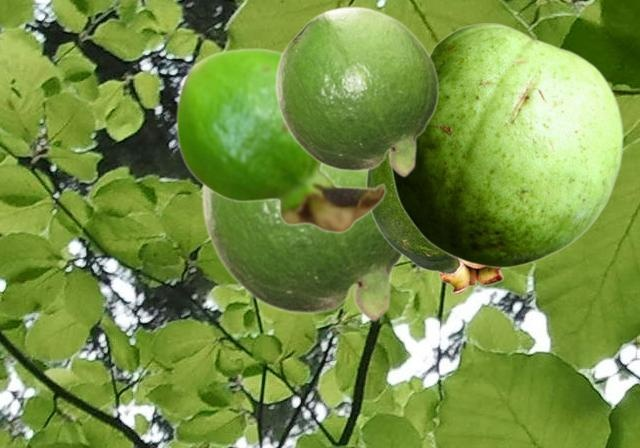guava: (390, 23, 622, 267), (175, 47, 386, 233), (200, 166, 403, 322), (274, 5, 438, 177), (365, 160, 504, 294)
